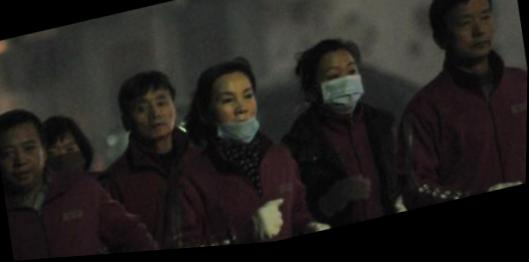NONE: (450, 11, 501, 70), (1, 134, 48, 191), (131, 93, 178, 144)
OK: (312, 61, 369, 120), (40, 135, 90, 187)
WRONG: (204, 82, 269, 151)
